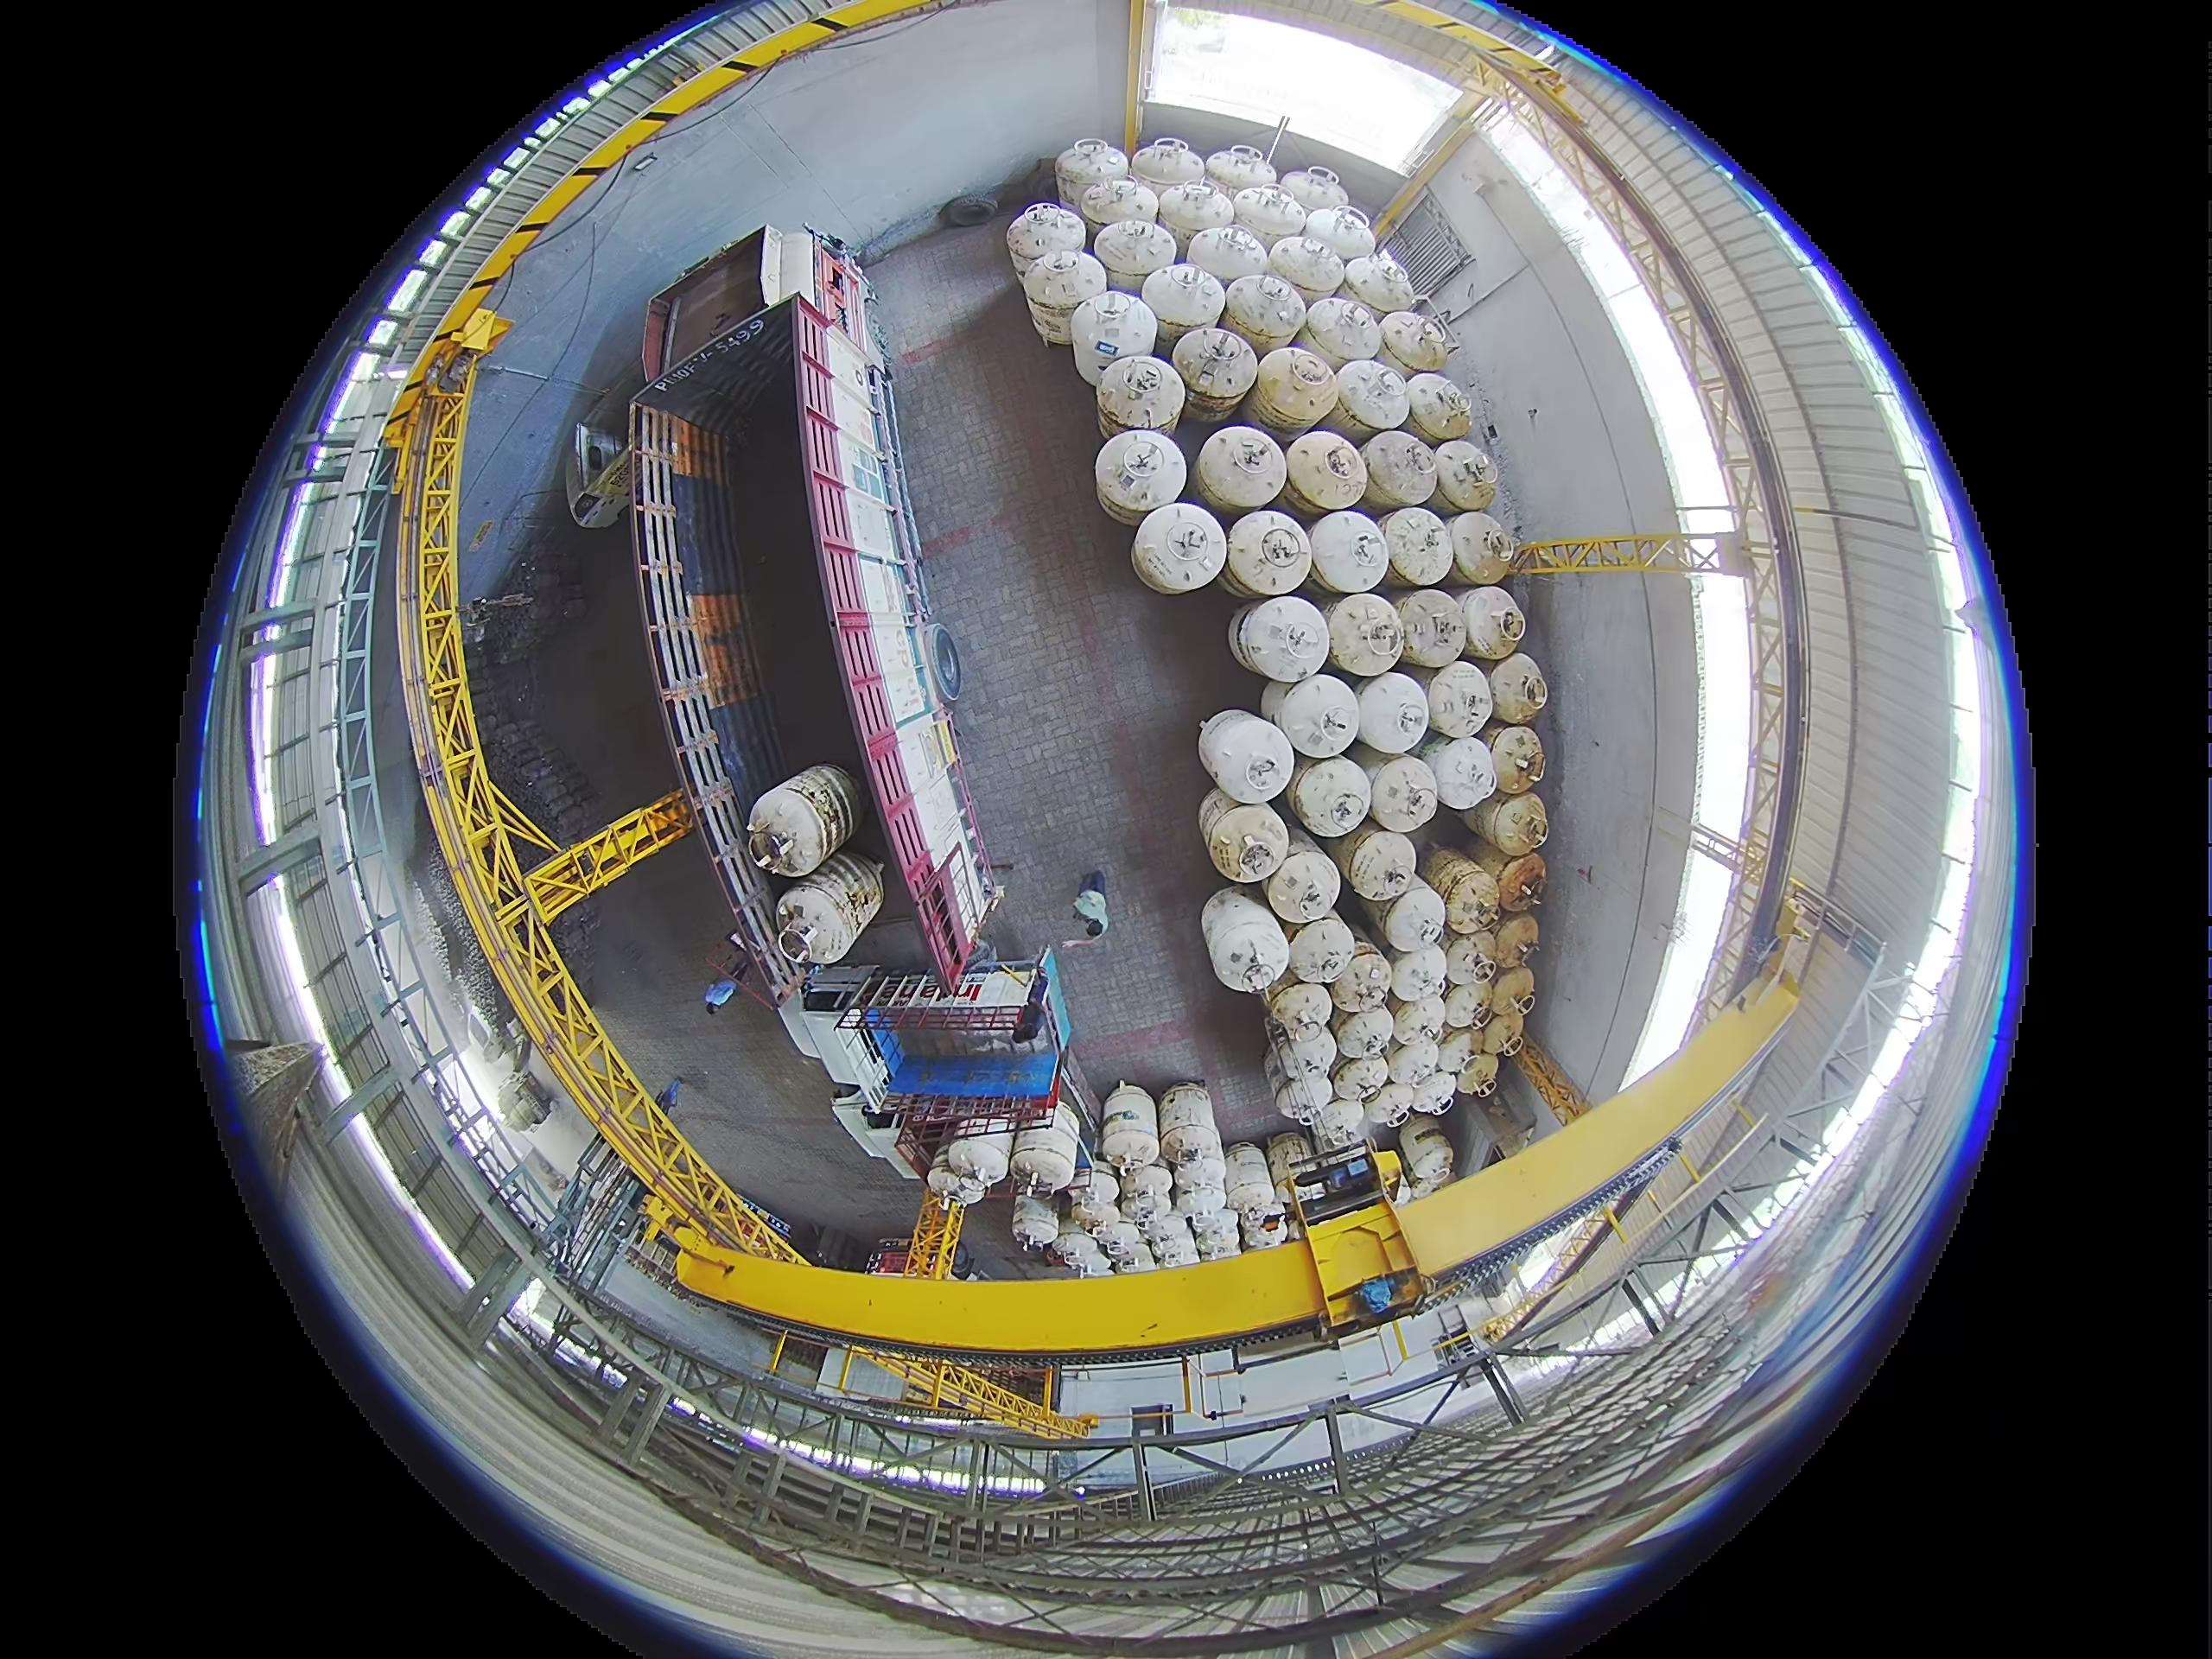cylinder: (747, 765, 862, 878), (1200, 889, 1289, 995), (1198, 709, 1294, 805), (1235, 594, 1329, 687), (1130, 502, 1224, 594), (1094, 430, 1184, 526), (1195, 425, 1287, 516), (1273, 671, 1364, 762), (1252, 347, 1341, 439), (1015, 247, 1097, 345), (1202, 798, 1292, 885), (1170, 326, 1258, 416), (1106, 1066, 1174, 1180), (1224, 511, 1312, 598), (1285, 429, 1371, 518), (1069, 291, 1153, 382), (1306, 509, 1392, 594), (1141, 260, 1226, 345), (1221, 272, 1308, 354), (1324, 592, 1407, 676), (1289, 756, 1372, 840), (1096, 354, 1181, 436), (1352, 671, 1430, 756), (1338, 823, 1420, 903), (1362, 429, 1440, 511), (1264, 845, 1343, 927), (1332, 355, 1411, 436), (1421, 734, 1498, 814), (1284, 915, 1362, 992), (1381, 505, 1456, 586), (1303, 295, 1383, 369), (1423, 660, 1496, 742), (1188, 221, 1273, 291), (1366, 755, 1440, 833), (1393, 589, 1468, 667), (1157, 179, 1235, 253), (1094, 216, 1174, 286), (1420, 847, 1491, 924), (1268, 234, 1346, 301), (1055, 139, 1129, 211), (1458, 586, 1527, 660), (1400, 371, 1470, 446), (1007, 202, 1083, 270), (1449, 511, 1519, 584), (1082, 176, 1158, 242), (1231, 185, 1310, 249), (941, 1127, 1021, 1190), (1381, 882, 1449, 955), (1378, 310, 1451, 378), (1339, 251, 1416, 315), (1301, 204, 1378, 268), (1432, 439, 1500, 511), (1129, 138, 1204, 202), (1266, 978, 1336, 1046), (1482, 652, 1548, 723), (1482, 723, 1545, 796), (1329, 948, 1395, 1014), (1486, 791, 1550, 857), (1021, 1126, 1082, 1195), (1205, 145, 1278, 200), (1399, 1121, 1454, 1192), (1388, 948, 1449, 1011), (1331, 1007, 1395, 1065), (1273, 1025, 1334, 1084), (1271, 1065, 1336, 1121), (1280, 167, 1350, 218), (1385, 1037, 1444, 1096), (1442, 931, 1500, 992), (1352, 885, 1413, 941), (1494, 852, 1548, 913), (496, 1070, 550, 1131), (1313, 1094, 1371, 1150), (1157, 1082, 1216, 1136), (1332, 1053, 1392, 1105), (1162, 1119, 1221, 1171), (1440, 981, 1496, 1035), (1475, 1006, 1529, 1061), (1266, 1133, 1315, 1194), (1360, 1082, 1418, 1133), (1491, 913, 1541, 971), (1223, 1161, 1277, 1213), (1170, 1166, 1228, 1215), (1487, 964, 1536, 1021), (1261, 676, 1308, 735), (1190, 1211, 1244, 1262), (1144, 1218, 1197, 1269), (1407, 1070, 1458, 1117), (1433, 1026, 1479, 1077), (920, 1150, 968, 1195), (1238, 1211, 1291, 1253), (1458, 1049, 1500, 1096)
truck: (631, 227, 1001, 1002), (643, 220, 846, 416), (763, 1004, 1089, 1114), (498, 380, 678, 537)
